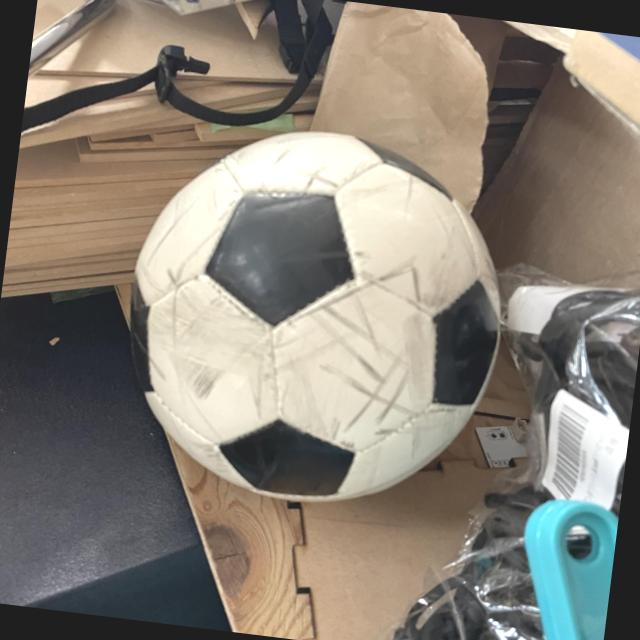Soccer Ball: (107, 109, 526, 526)
